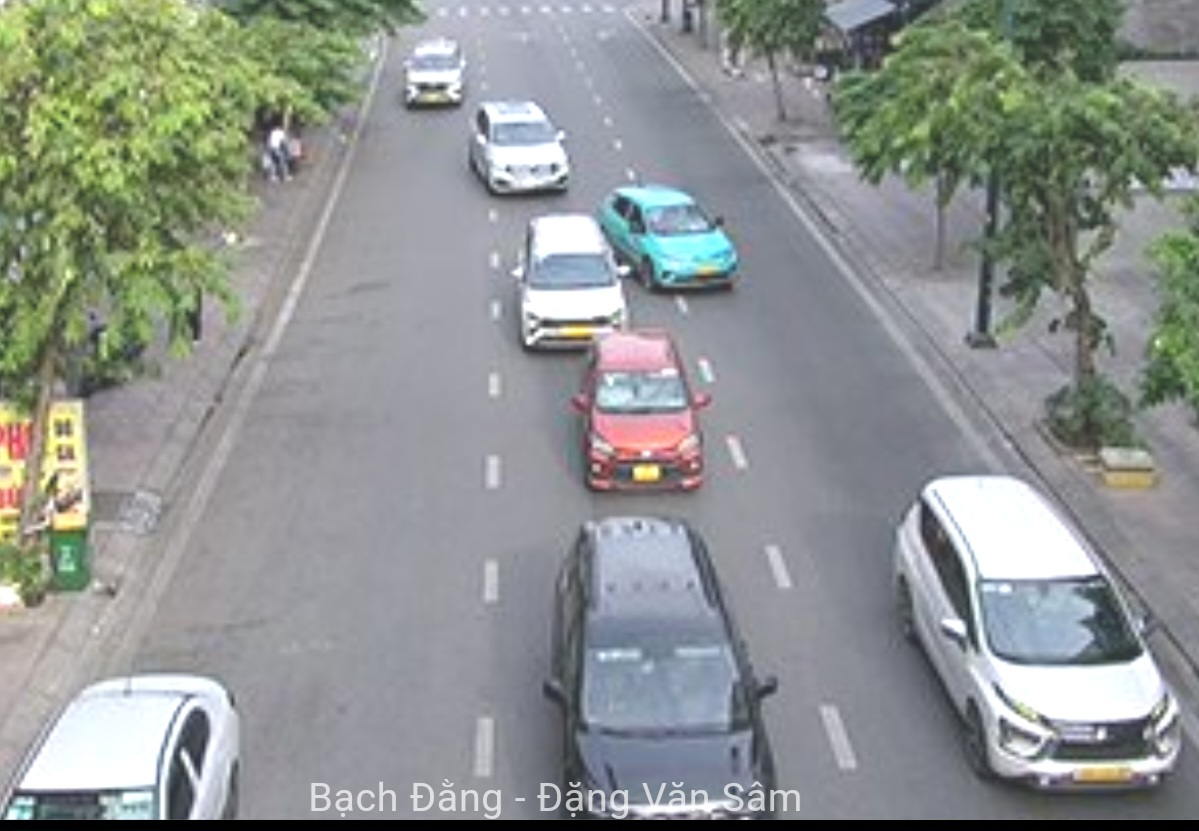car: (890, 477, 1184, 794), (558, 518, 781, 816), (1, 672, 242, 825), (576, 334, 704, 499), (595, 179, 740, 295), (519, 214, 624, 353), (463, 100, 571, 195), (402, 37, 464, 109)
